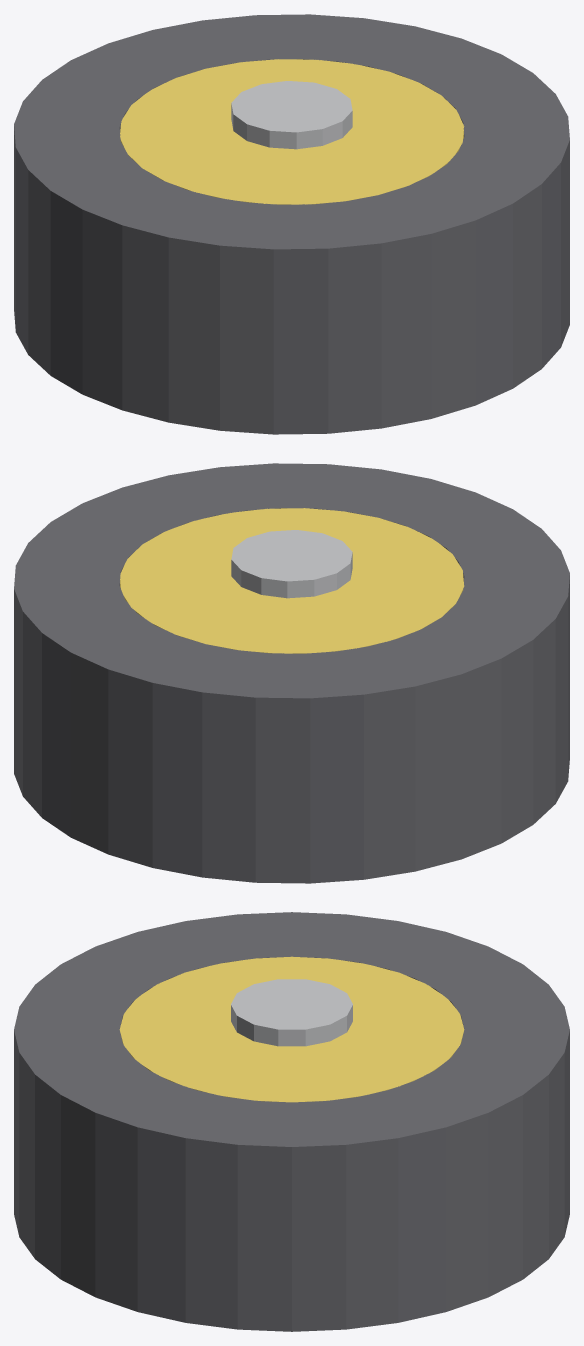
File: wheel.glb
The picture shows the model from 3 angles, top to bottom: view 1: azimuth 30°, elevation 25°; view 2: azimuth 150°, elevation 25°; view 3: azimuth 270°, elevation 25°; orthographic projection.
Visible parts, largest first — view 1: rubber, tool_yellow, plastic_gray; view 2: rubber, tool_yellow, plastic_gray; view 3: rubber, tool_yellow, plastic_gray.
Boxes of the visible parts, x1,y1,x2,y2 form: rubber: (14, 14, 569, 434); tool_yellow: (120, 59, 464, 204); plastic_gray: (231, 81, 352, 149); rubber: (14, 463, 569, 883); tool_yellow: (120, 508, 464, 653); plastic_gray: (231, 530, 352, 598); rubber: (14, 912, 569, 1331); tool_yellow: (119, 956, 464, 1102); plastic_gray: (231, 979, 352, 1046).
Size of the model in its own units: 0.06 by 0.028 by 0.06.
